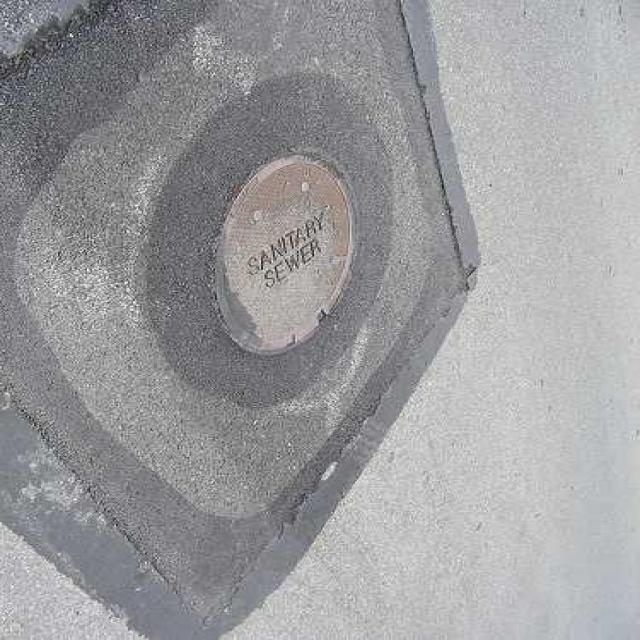manhole: (217, 155, 353, 354)
